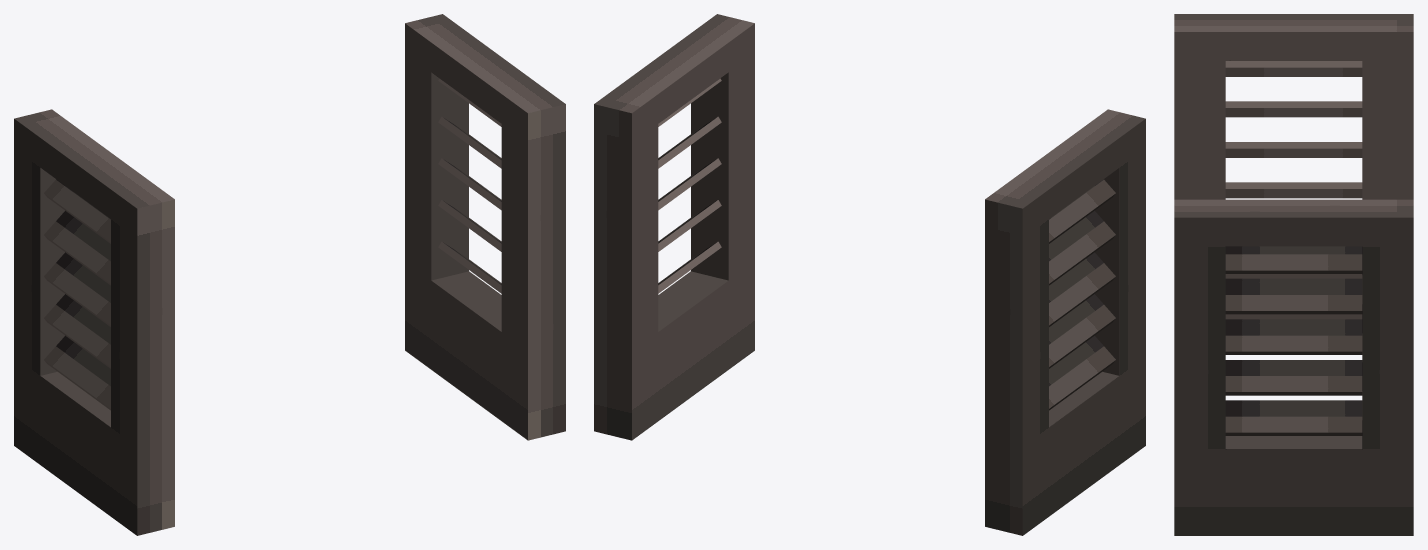
The model's file is open_shutter_372x02.obj.
3 renders of one model, left to right at view 1: azimuth 30°, elevation 25°; view 2: azimuth 150°, elevation 25°; view 3: azimuth 270°, elevation 25°, orthographic. The views are drawn at different scales.
Visible parts, largest first — view 1: Frame.003; view 2: Frame.003; view 3: Frame.003.
Part boxes in pixels (bbox=[...]): Frame.003: bbox=[14, 14, 565, 535]; Frame.003: bbox=[594, 14, 1145, 535]; Frame.003: bbox=[1174, 14, 1413, 535].
Size of the model in its own units: 3.87 by 2.82 by 1.92.
